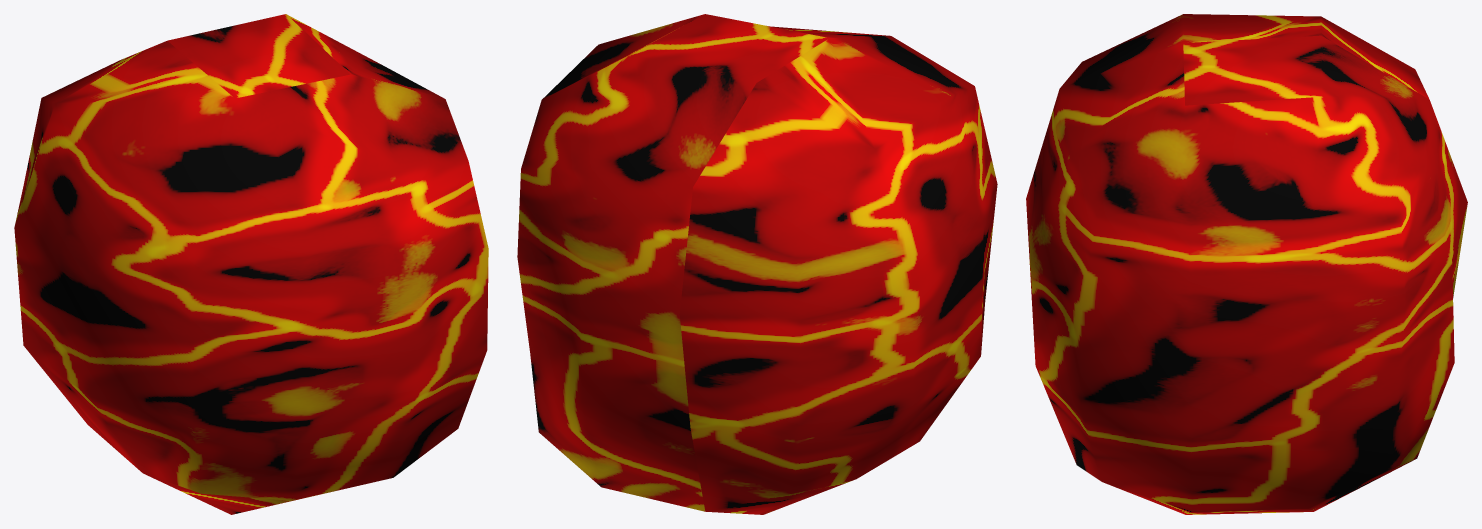
File: Meteor.fbx
3 renders of one model, left to right at view 1: azimuth 30°, elevation 25°; view 2: azimuth 150°, elevation 25°; view 3: azimuth 270°, elevation 25°, orthographic. The views are drawn at different scales.
Parts seen in each view (by area): view 1: pCube2; view 2: pCube2; view 3: pCube2.
Boxes of the visible parts, x1,y1,x2,y2 form: pCube2: [14, 14, 488, 514]; pCube2: [517, 14, 997, 514]; pCube2: [1026, 14, 1467, 514].
Size of the model in its own units: 64.7 by 66.28 by 62.03.
Materials: 1 (1 with a texture image).
